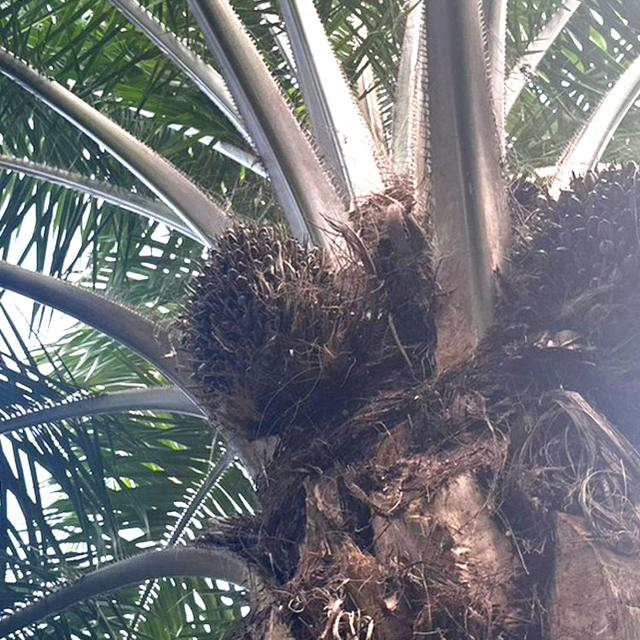unripe: (174, 217, 371, 408), (507, 154, 640, 365)
